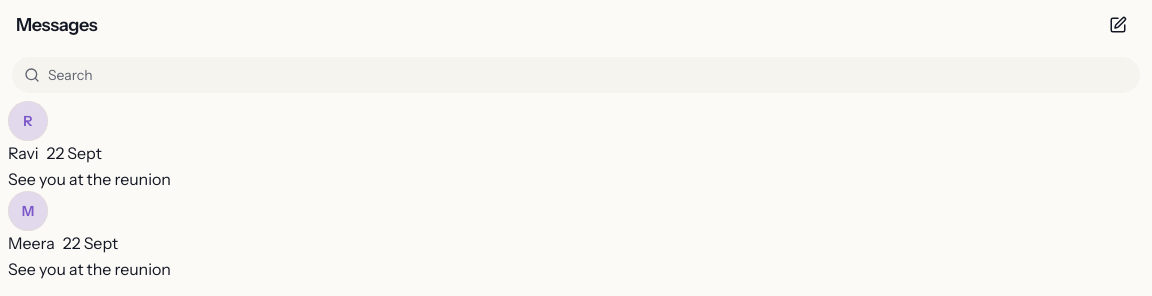
Scenario: ConversationList › filters loaded conversations by name
The width and height of the screenshot is (1152, 296).
Type "mee" into the search field named "Search conversations" at [588, 75], box [48,65,1128,85]
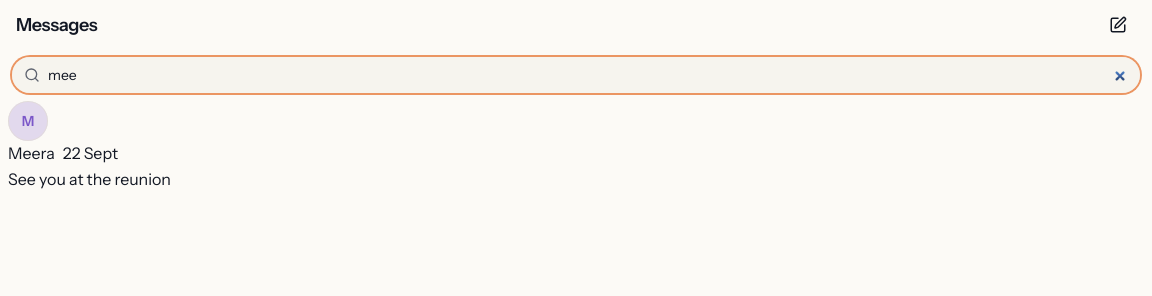
Expected: the link "M Meera 22 Sept See you at the reunion" is shown, [8,101,171,189]
Result: the link "Ravi" is gone
